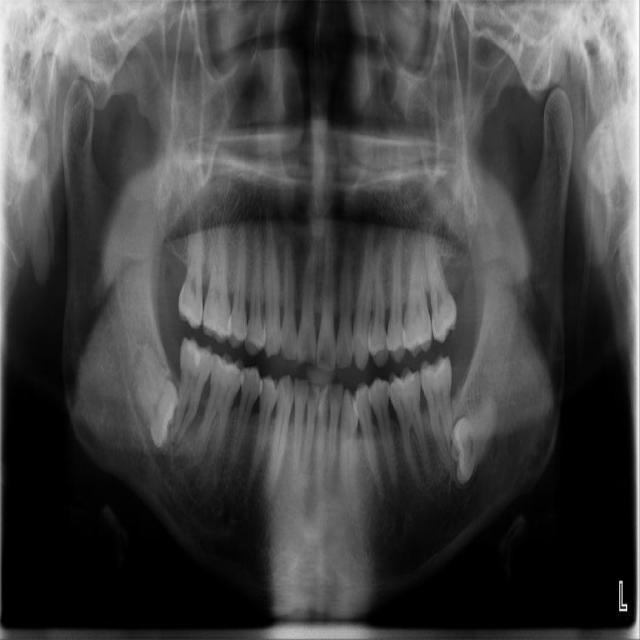52: (175, 335, 217, 385)
73: (594, 562, 612, 578)
BioHorizons Implant: (420, 221, 460, 344)
Biomet 3i Implant: (431, 391, 508, 488)
Blue Sky Bio Implant: (418, 353, 455, 463)
Caries: (178, 205, 204, 330)
Implant: (173, 335, 216, 444)
Keystone Dental Implant: (115, 342, 198, 451)
